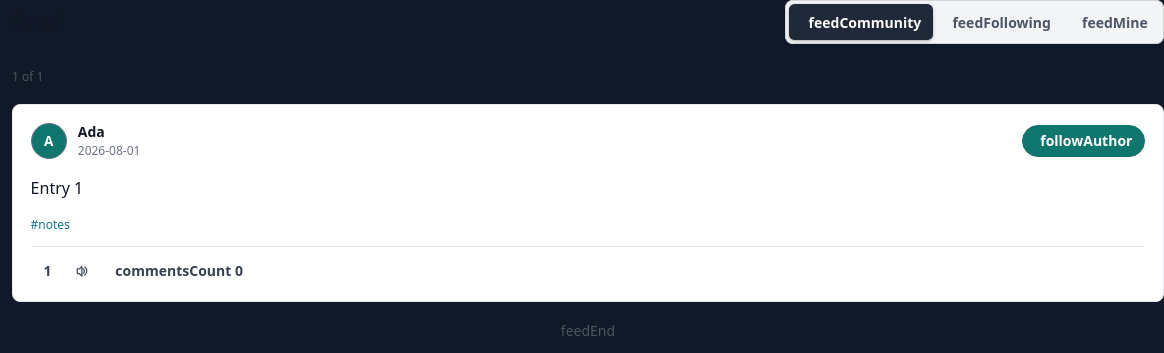
Scenario: FeedPage › replaces community entries when switching to the own-public preview
The image size is (1164, 353).
Expected: the text "Entry 1" is shown, [31, 177, 83, 199]
What coordinates should you click on to do the following:
click the button "feedMine"
I would click on:
 (1111, 22)
Its box is [1063, 4, 1160, 40].
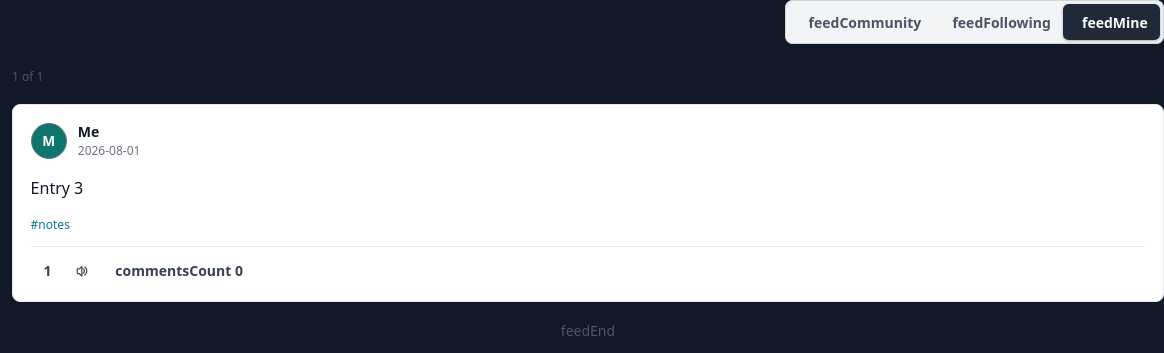
Result: the text "Entry 3" is shown at [31, 177, 83, 199]
Result: the text "Entry 1" is gone
